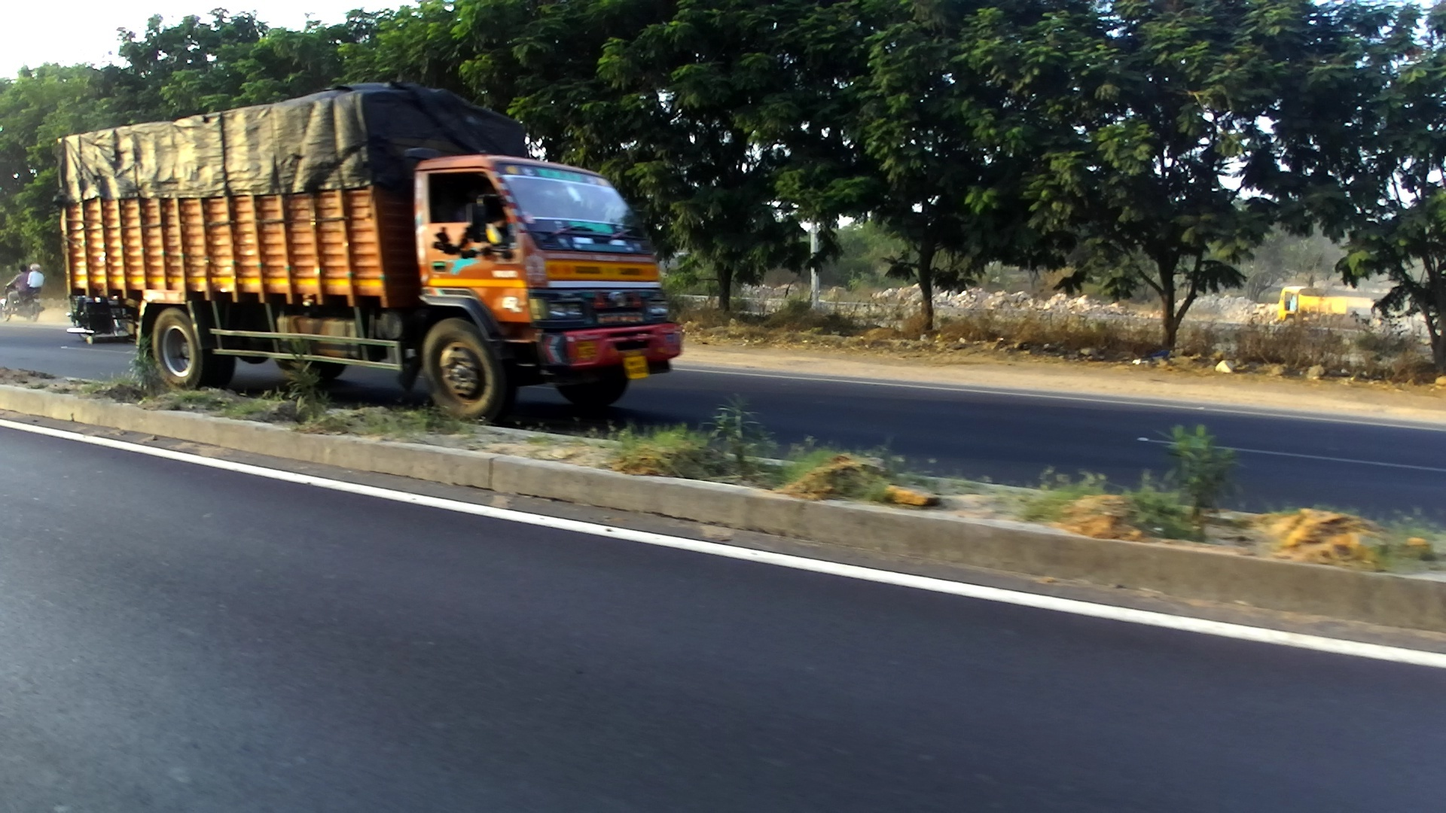motorcycle: (1, 283, 44, 326)
rider: (17, 258, 44, 317), (4, 263, 29, 318)
truck: (55, 85, 683, 416), (1274, 284, 1390, 331)
vehicle fallback: (69, 288, 141, 347)
